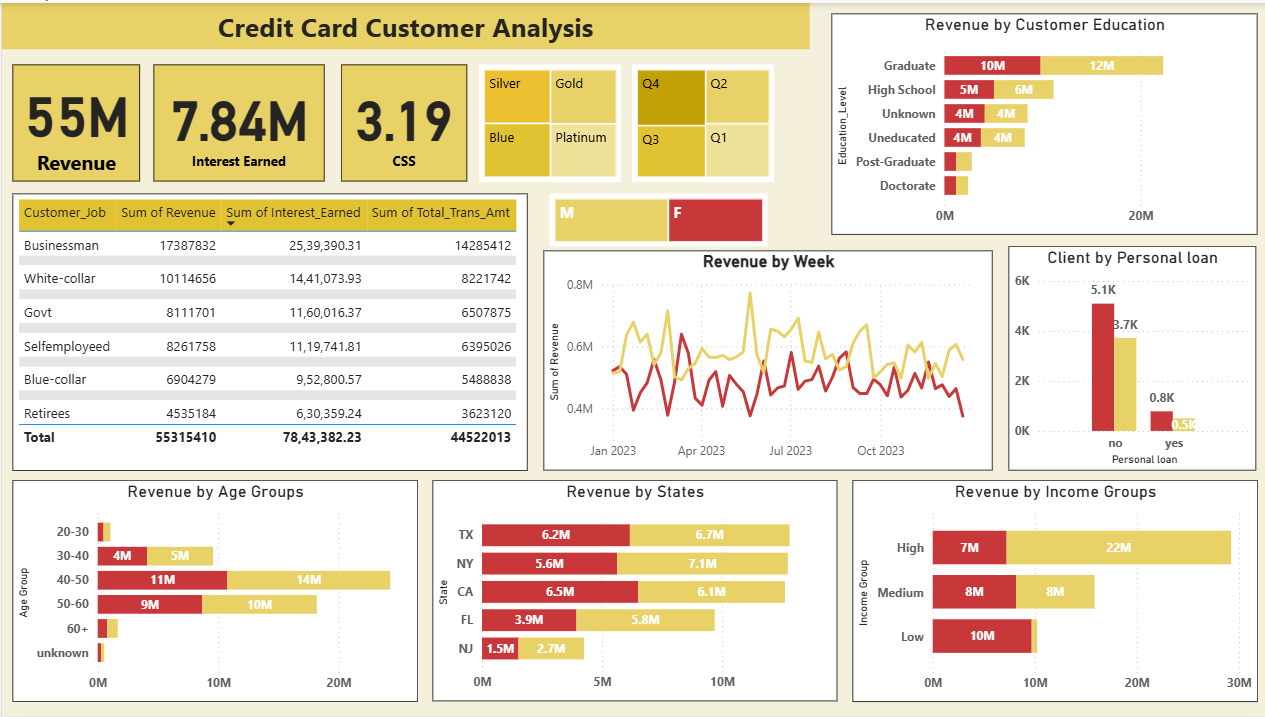

What the dashboard file says about the page in this screenshot:
{"tool":"powerbi","page":{"name":"CC Customer Analysis","canvas":[1280,720],"ordinal":1},"visuals":[{"type":"tableEx","fields":{"Values":["Customer details.Customer_Job","Sum(Credit card details.Revenue)","Sum(Credit card details.Interest_Earned)","Sum(Credit card details.Total_Trans_Amt)"]},"box":[10,191.7,520,280],"z":0},{"type":"card","fields":{"Values":["Sum(Credit card details.Revenue)"]},"box":[10.6,62.1,128.8,118.2],"z":1000},{"type":"card","fields":{"Values":["Sum(Credit card details.Interest_Earned)"]},"box":[153,62.1,172.7,118.2],"z":2000},{"type":"treemap","fields":{"Group":["Credit card details.Qtr"],"Values":["Avg(Credit card details.Client_Num)"]},"box":[636.7,61.7,143.3,118.3],"z":3000},{"type":"treemap","fields":{"Values":["Avg(Credit card details.Client_Num)"],"Group":["Credit card details.Card_Category"]},"box":[481.7,61.7,143.3,118.3],"z":4000},{"type":"lineChart","title":"Revenue by Week","fields":{"Y":["Sum(Credit card details.Revenue)"],"Category":["Credit card details.Week_Start_Date.Variation.Date Hierarchy.Year","Credit card details.Week_Start_Date.Variation.Date Hierarchy.Quarter","Credit card details.Week_Start_Date.Variation.Date Hierarchy.Month","Credit card details.Week_Start_Date.Variation.Date Hierarchy.Day"],"Series":["Customer details.Gender"]},"box":[546.7,250,453.3,221.7],"z":5000},{"type":"treemap","fields":{"Group":["Customer details.Gender"],"Values":["Sum(Credit card details.Revenue)"]},"box":[553.3,191.7,220,53.3],"z":6000},{"type":"clusteredColumnChart","title":"Client by Personal loan","fields":{"Category":["Customer details.Personal_loan"],"Y":["CountNonNull(Customer details.Client_Num)"],"Series":["Customer details.Gender"]},"box":[1016.7,245,250,226.7],"z":7000},{"type":"barChart","title":"Revenue by Income Groups","fields":{"Category":["Customer details.Income_Group"],"Y":["Sum(Credit card details.Revenue)"],"Series":["Customer details.Gender"]},"box":[859.1,481.8,409.1,224.2],"z":8000},{"type":"barChart","title":"Revenue by Age Groups","fields":{"Y":["Sum(Credit card details.Revenue)"],"Category":["Customer details.Age_Group"],"Series":["Customer details.Gender"]},"box":[10,481.7,409,224],"z":9000},{"type":"barChart","title":"Revenue by States","fields":{"Y":["Sum(Credit card details.Revenue)"],"Category":["Customer details.state_cd"],"Series":["Customer details.Gender"]},"box":[435,481.7,408.3,223.3],"z":10000},{"type":"card","title":"CSS","fields":{"Values":["Avg(Customer details.Cust_Satisfaction_Score)"]},"box":[342.4,62.1,127.3,118.2],"z":11000},{"type":"textbox","box":[0,0,815.2,47],"z":12000},{"type":"barChart","title":"Revenue by Customer Education","fields":{"Y":["Sum(Credit card details.Revenue)"],"Category":["Customer details.Education_Level"],"Series":["Customer details.Gender"]},"box":[836.7,10,430,223.3],"z":13000}]}

Visuals, with their boxes in screenshot pixels (x1, y1, x2, y2), scaled from the page's 1280x720 canvas onto the 1265x717 screenshot:
tableEx - Customer details.Customer_Job x Sum(Credit card details.Revenue): <bbox>10, 191, 524, 470</bbox>
card - Sum(Credit card details.Revenue): <bbox>10, 62, 138, 180</bbox>
card - Sum(Credit card details.Interest_Earned): <bbox>151, 62, 322, 180</bbox>
treemap - Credit card details.Qtr x Avg(Credit card details.Client_Num): <bbox>629, 61, 771, 179</bbox>
treemap - Avg(Credit card details.Client_Num) x Credit card details.Card_Category: <bbox>476, 61, 618, 179</bbox>
"Revenue by Week" lineChart: <bbox>540, 249, 988, 470</bbox>
treemap - Customer details.Gender x Sum(Credit card details.Revenue): <bbox>547, 191, 764, 244</bbox>
"Client by Personal loan" clusteredColumnChart: <bbox>1005, 244, 1252, 470</bbox>
"Revenue by Income Groups" barChart: <bbox>849, 480, 1253, 703</bbox>
"Revenue by Age Groups" barChart: <bbox>10, 480, 414, 703</bbox>
"Revenue by States" barChart: <bbox>430, 480, 833, 702</bbox>
"CSS" card: <bbox>338, 62, 464, 180</bbox>
textbox: <bbox>0, 0, 806, 47</bbox>
"Revenue by Customer Education" barChart: <bbox>827, 10, 1252, 232</bbox>
